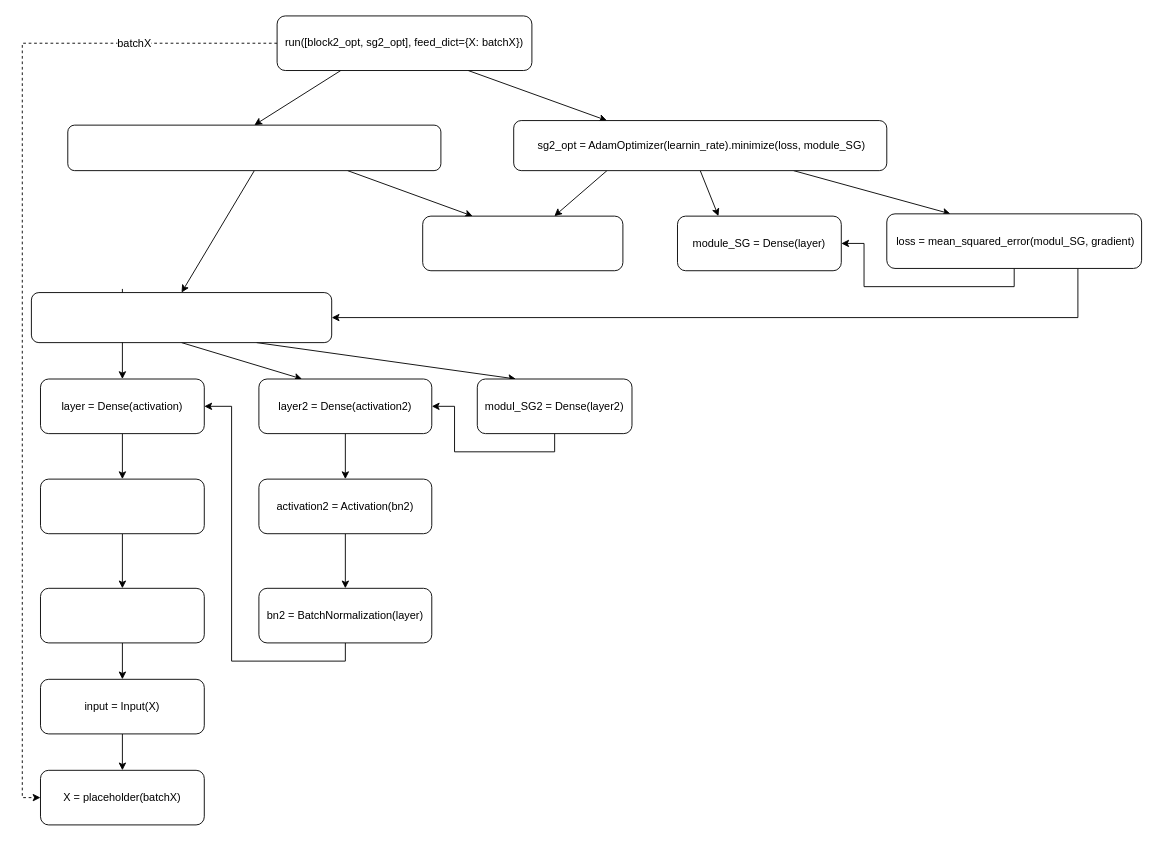
The diagram is 1158 pixels wide and 841 high, and some of its shapes have lost their labels. The shapes that lost their labels are listed below. From the top down, each one's centre as x and y in pixels, then its label:
At (254,147): "block2_opt = RMSPropOptimizer(learnin_rate).apply_gradients(gradient)".
At (522,243): "learning_rate = Variable(10 -5 )".
At (181,317): "gradient = Gradients(layer2, layer, modul_SG2)".
At (122,506): "activation = Activation(bn)".
At (122,615): "bn = BatchNormalization(input)".
